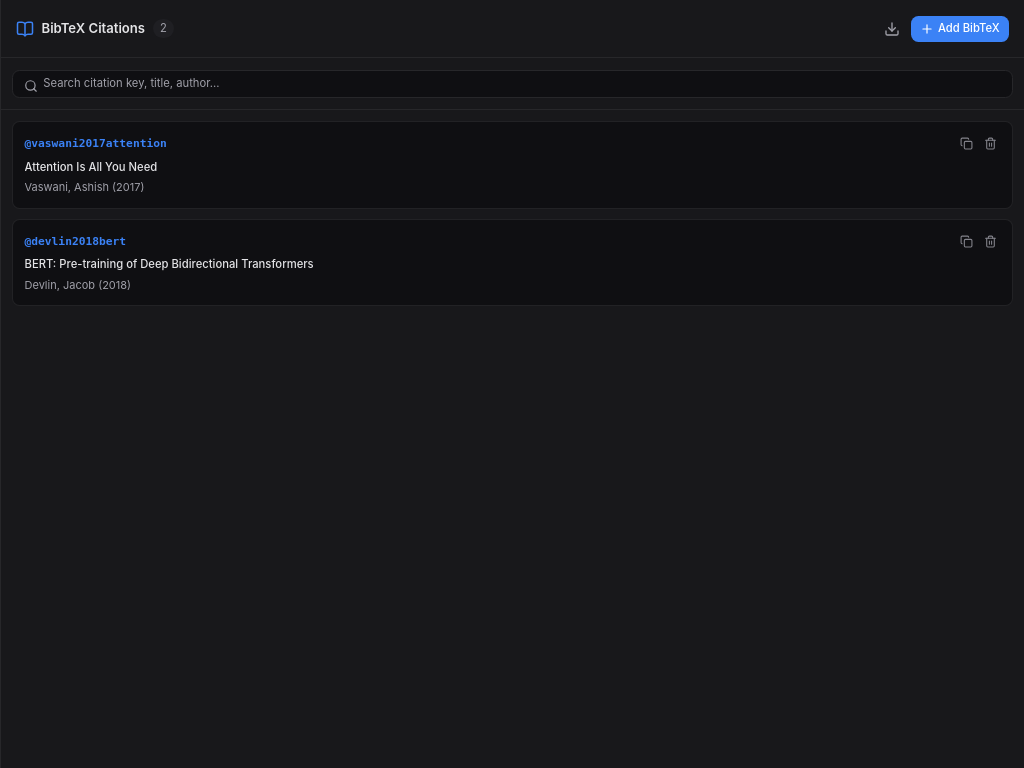
BibtexManager › filters citations by search query
Type "bert" into the field with placeholder "Search citation key, title, author..." at (513, 84), box [12,70,1013,98]
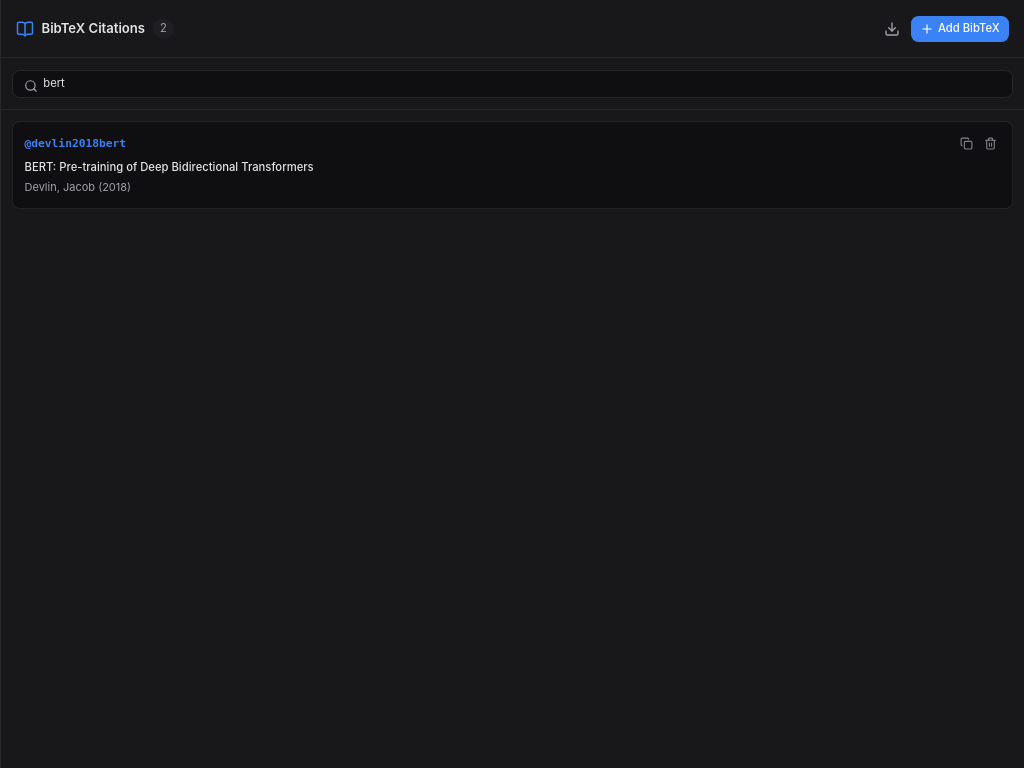
Check: the text "@devlin2018bert" is shown, box [24,136,126,151]
Check: the text "@vaswani2017attention" is gone
